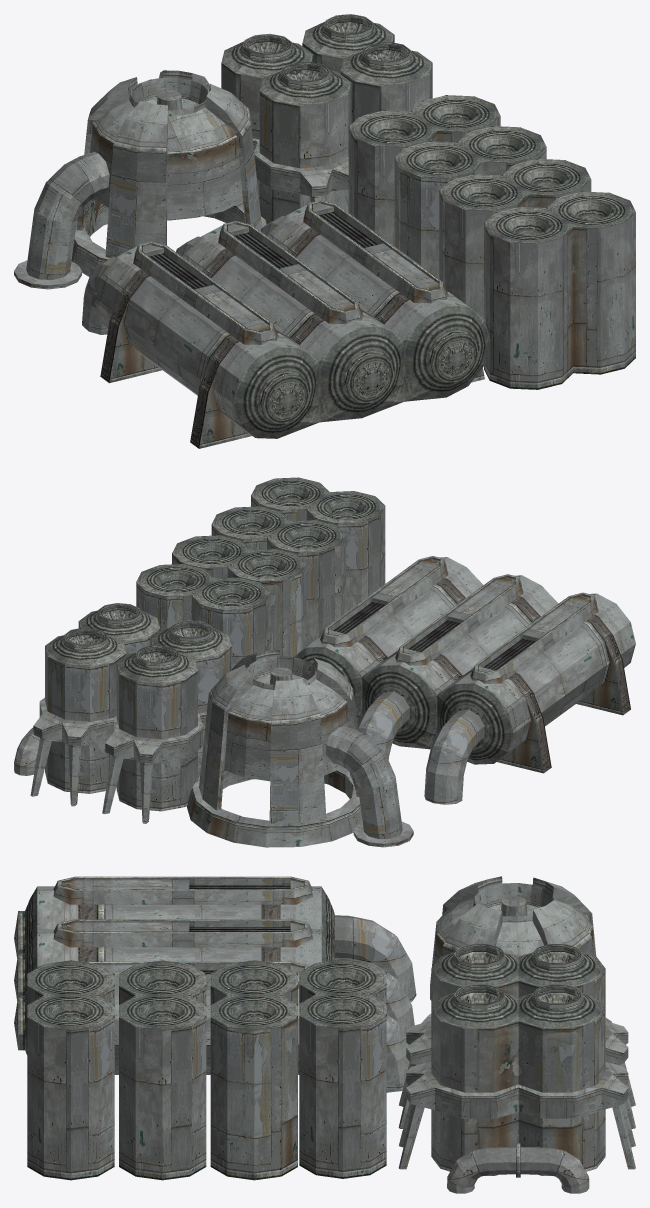
File: eaw_bespinBuilding4.glb
3 views of the same model, one above another, from view 1: azimuth 30°, elevation 25°; view 2: azimuth 150°, elevation 25°; view 3: azimuth 270°, elevation 25° (orthographic). The views are drawn at different scales.
Visible parts, largest first — view 1: w_fuel_cell00_0; view 2: w_fuel_cell00_0; view 3: w_fuel_cell00_0.
Boxes of the visible parts, x1,y1,x2,y2 form: w_fuel_cell00_0: (14,14,635,448); w_fuel_cell00_0: (14,477,635,847); w_fuel_cell00_0: (14,876,635,1193).
Bounding box in the file's own units: 31.03 × 10.78 × 35.73.
Materials: 1 (1 with a texture image).
